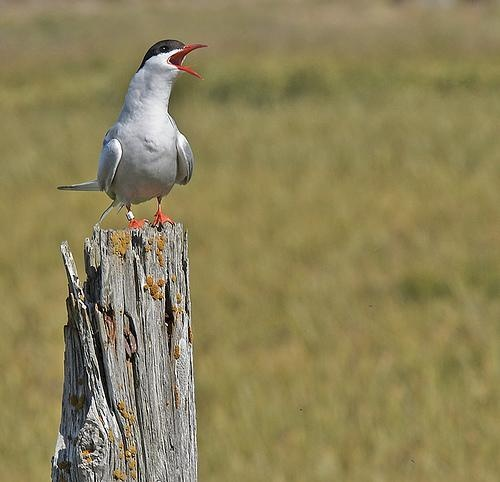bird: (45, 38, 214, 230)
